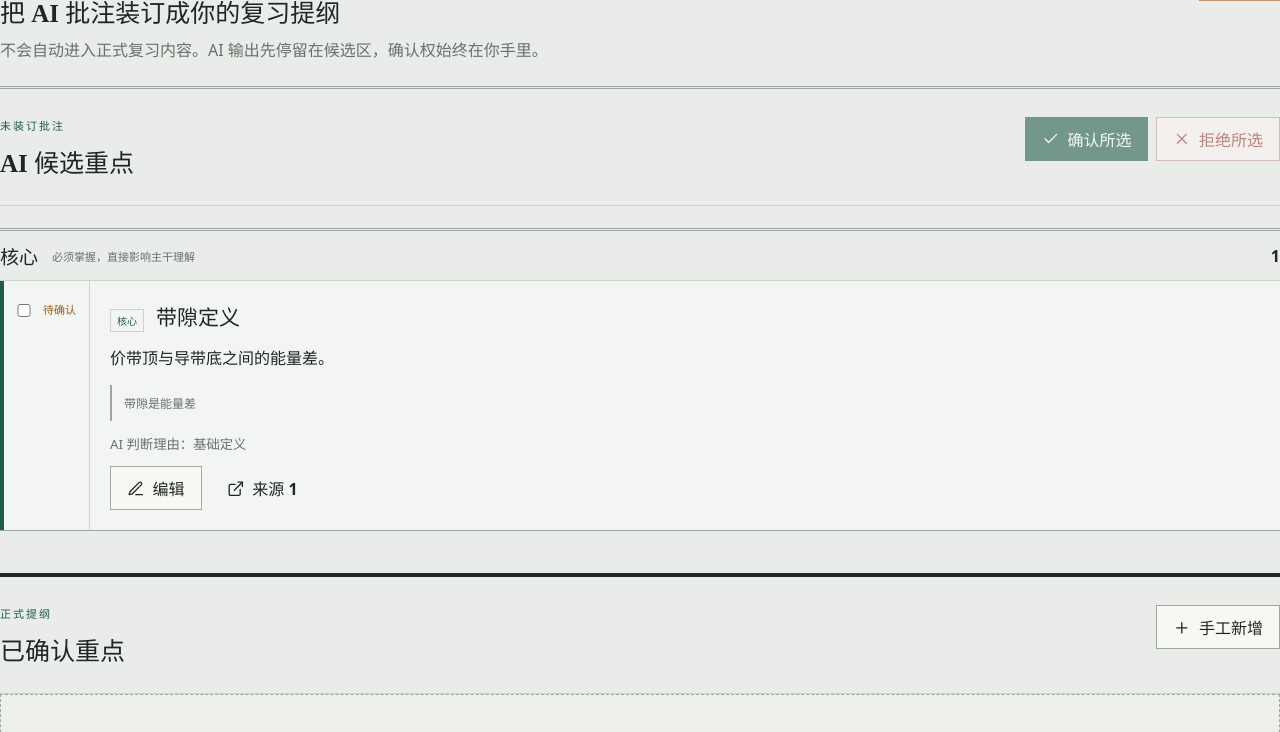
Test: keeps AI output pending until the user edits and confirms it
Expected: the text "待确认" is shown, top-left (43, 301), bottom-right (77, 320)
Expected: the text "不会自动进入正式复习内容" is shown, top-left (0, 39), bottom-right (192, 61)
Click the button with aria-label "编辑 带隙定义" at point(156, 488), box top-left (110, 466), bottom-right (202, 510)
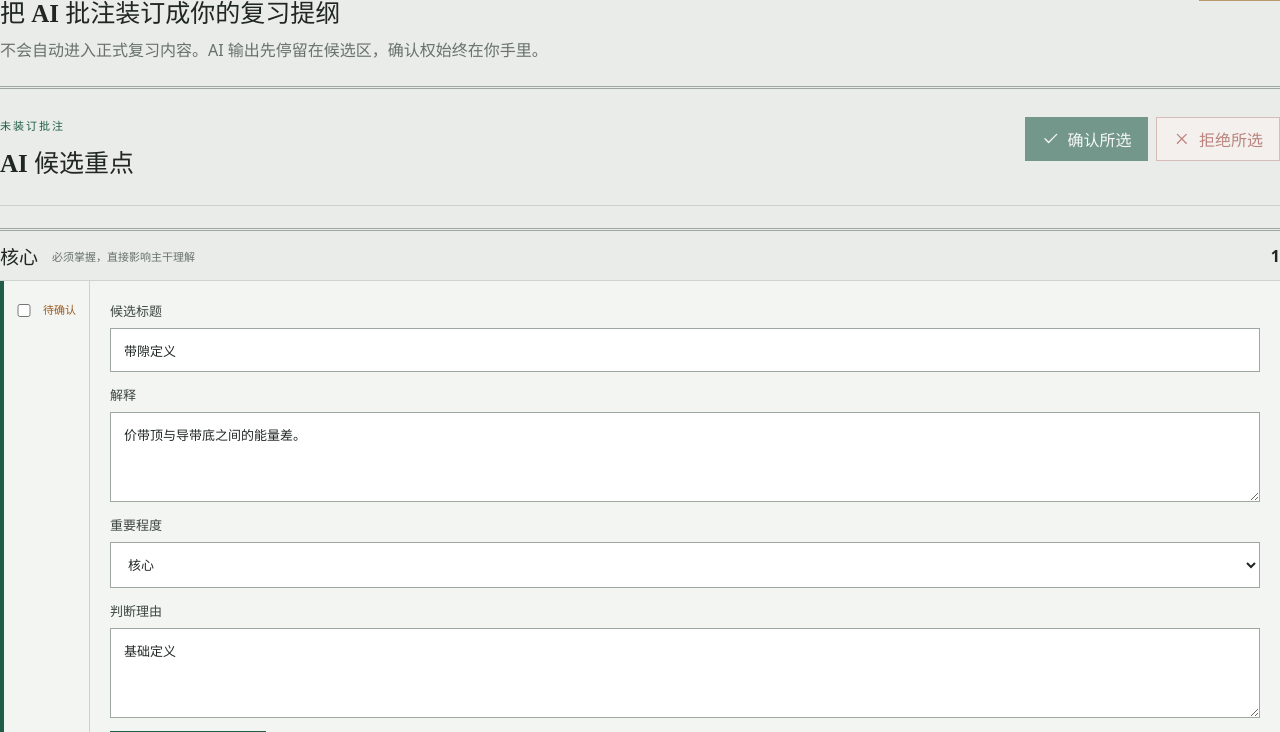
Replace the text in the field labelled "候选标题" with "带隙核心定义" at point(685, 350), box top-left (110, 328), bottom-right (1260, 372)
(page scrolled)
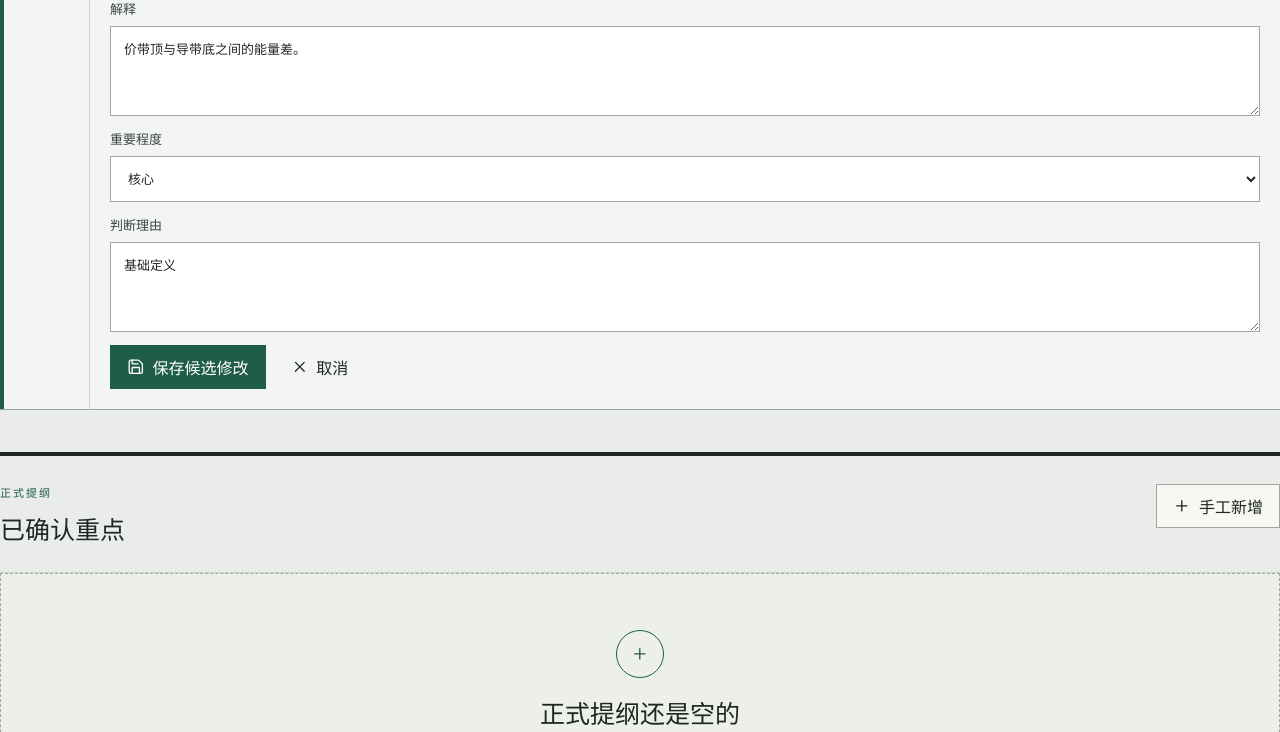
Click the button "保存候选修改" at point(188, 367), box top-left (110, 345), bottom-right (266, 389)
(page scrolled)
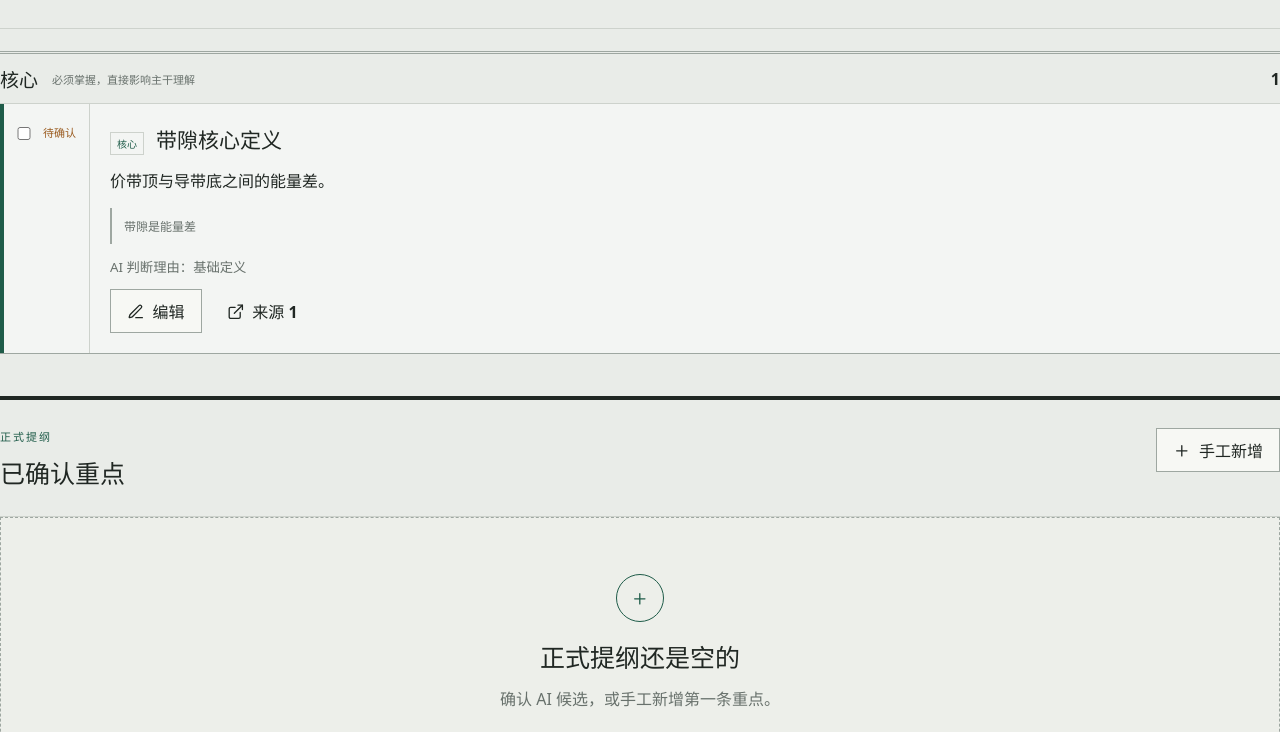
Expected: the heading "带隙核心定义" is shown, top-left (156, 124), bottom-right (282, 154)
Click the checkbox named "选择候选 带隙核心定义" at point(24, 134), box top-left (16, 127), bottom-right (32, 140)
(page scrolled)
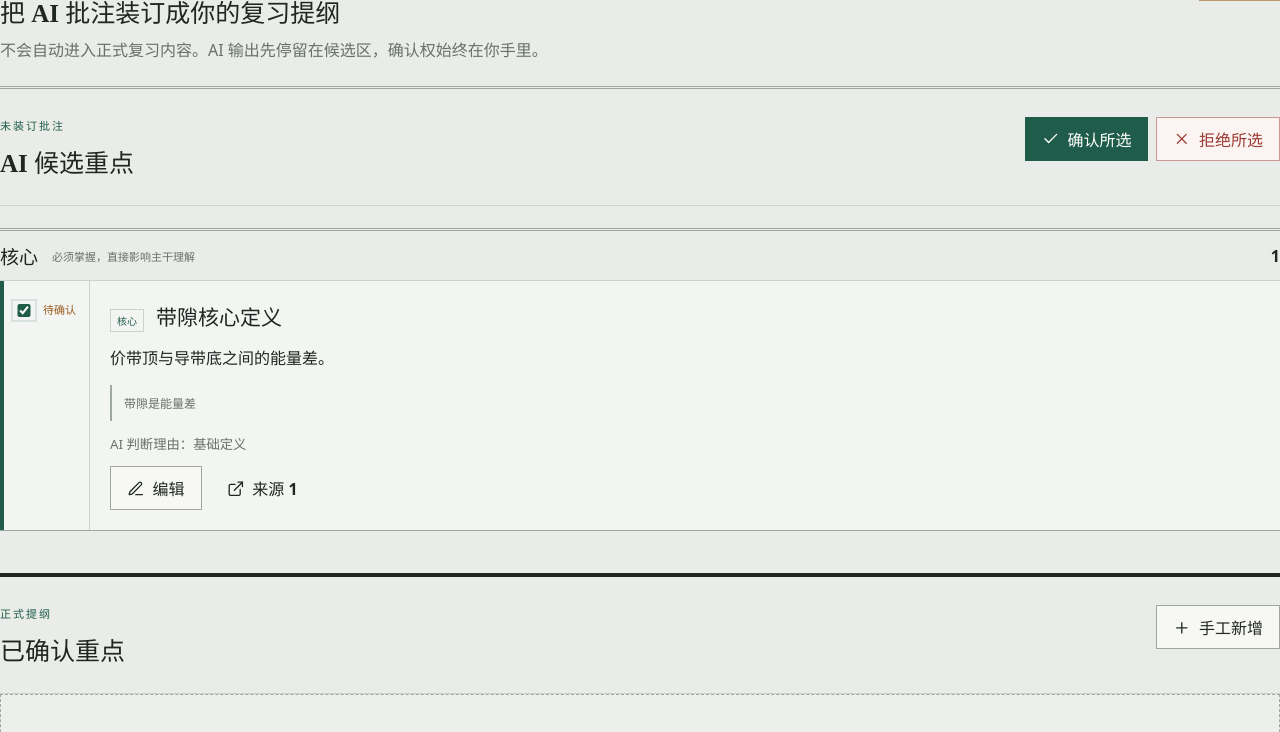
Click the button "确认所选" at point(1087, 139), box top-left (1025, 117), bottom-right (1148, 161)
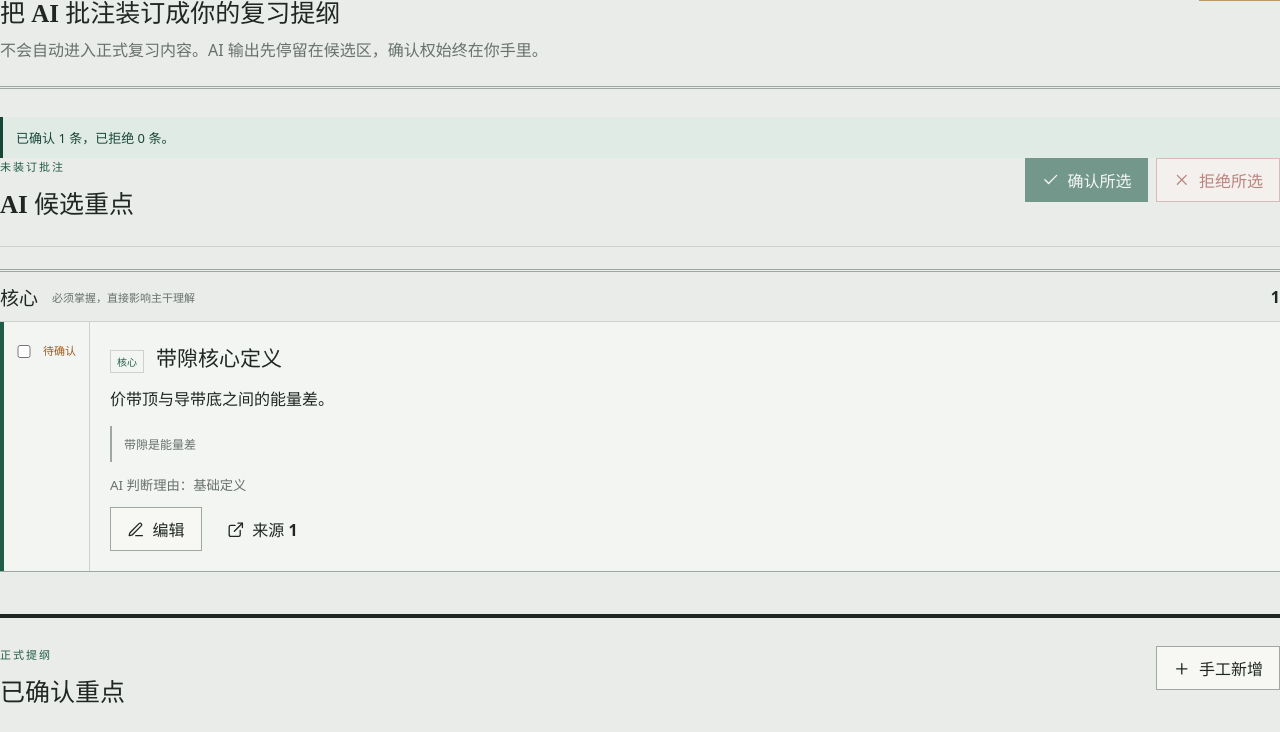
Expected: the text "已确认 1 条，已拒绝 0 条。" is shown, top-left (0, 117), bottom-right (1279, 158)
